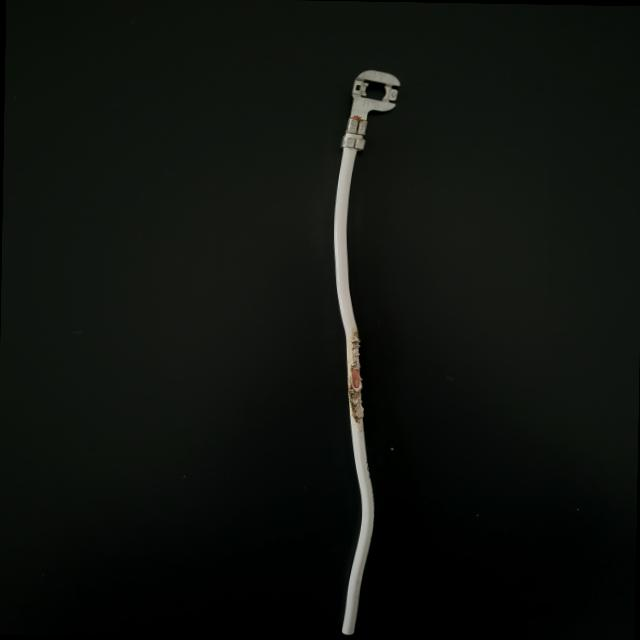defect: (302, 301, 384, 458)
